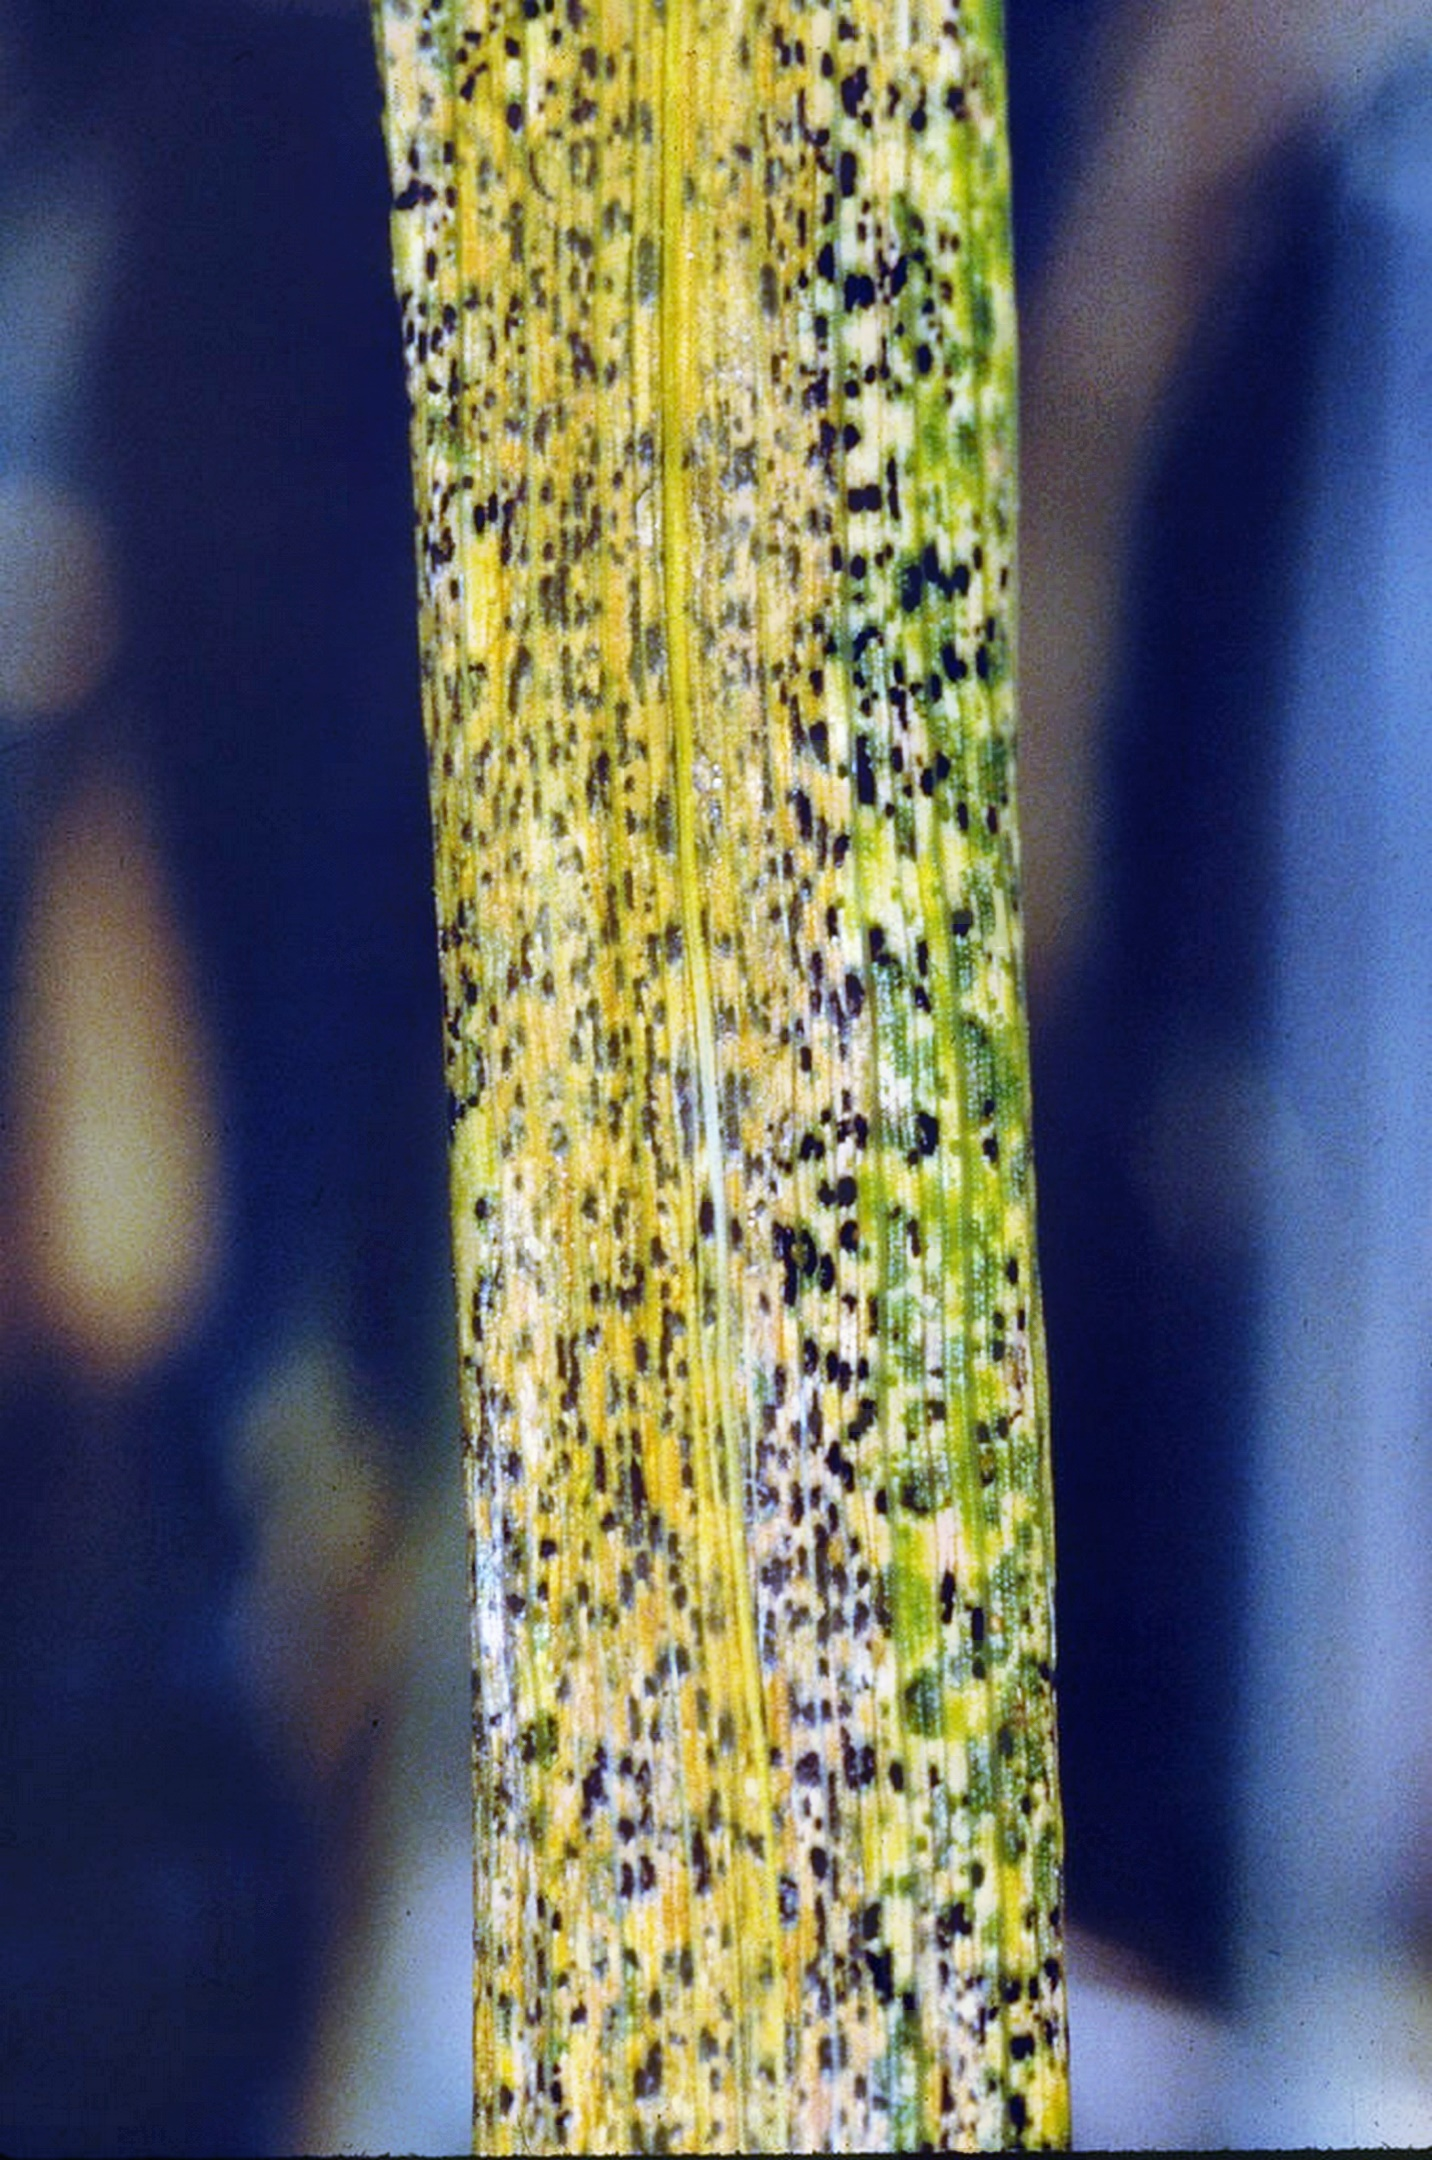Leaf Rust: (368, 329, 1064, 2090)
